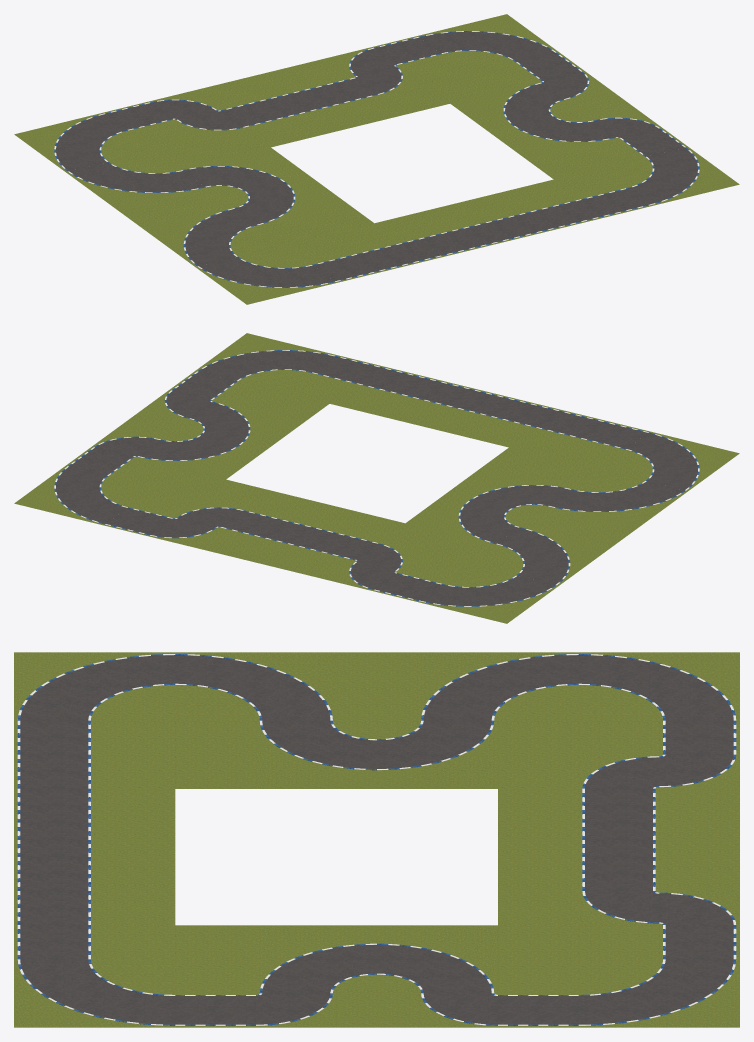
File: track_02.glb
The picture shows the model from 3 angles, top to bottom: view 1: azimuth 30°, elevation 25°; view 2: azimuth 150°, elevation 25°; view 3: azimuth 270°, elevation 25°; orthographic projection. The views are drawn at different scales.
Visible parts, largest first — view 1: Forest_mod04_turn180.004, Forest_mod04_turn180.005, Forest_mod03_turn90_big.009, Forest_mod03_turn90_big.008, Forest_mod03_turn90_big.013, Forest_mod03_turn90_big.011, Forest_mod03_turn90_big.010, Forest_mod03_turn90_big.012, Forest_mod02_turn90_small.015, Forest_mod01_straight.059, Forest_mod01_straight.010, Forest_mod00_empty.090 (+43 smaller); view 2: Forest_mod04_turn180.004, Forest_mod04_turn180.005, Forest_mod03_turn90_big.011, Forest_mod03_turn90_big.010, Forest_mod03_turn90_big.012, Forest_mod03_turn90_big.009, Forest_mod03_turn90_big.008, Forest_mod03_turn90_big.013, Forest_mod01_straight.015, Forest_mod02_turn90_small.015, Forest_mod02_turn90_small.008, Forest_mod00_empty.096 (+43 smaller); view 3: Forest_mod04_turn180.005, Forest_mod04_turn180.004, Forest_mod03_turn90_big.013, Forest_mod03_turn90_big.012, Forest_mod03_turn90_big.011, Forest_mod03_turn90_big.010, Forest_mod03_turn90_big.009, Forest_mod03_turn90_big.008, Forest_mod00_empty.083, Forest_mod00_empty.079, Forest_mod02_turn90_small.016, Forest_mod02_turn90_small.015 (+43 smaller).
Part boxes in pixels (x1,y1,x2,y2): Forest_mod04_turn180.004: (450,82,616,160); Forest_mod04_turn180.005: (181,147,347,225); Forest_mod03_turn90_big.009: (195,245,335,304); Forest_mod03_turn90_big.008: (418,14,558,73); Forest_mod03_turn90_big.013: (143,207,284,266); Forest_mod03_turn90_big.011: (14,112,154,171); Forest_mod03_turn90_big.010: (599,147,739,206); Forest_mod03_turn90_big.012: (66,150,206,209); Forest_mod02_turn90_small.015: (174,109,244,139); Forest_mod01_straight.059: (219,98,289,128); Forest_mod01_straight.010: (356,242,425,271); Forest_mod00_empty.090: (259,215,329,244); Forest_mod04_turn180.004: (137,401,303,479); Forest_mod04_turn180.005: (406,466,572,544); Forest_mod03_turn90_big.011: (418,564,558,623); Forest_mod03_turn90_big.010: (195,333,335,392); Forest_mod03_turn90_big.012: (469,526,610,585); Forest_mod03_turn90_big.009: (599,431,739,490); Forest_mod03_turn90_big.008: (14,466,154,525); Forest_mod03_turn90_big.013: (547,469,687,528); Forest_mod01_straight.015: (445,388,515,417); Forest_mod02_turn90_small.015: (354,542,423,571); Forest_mod02_turn90_small.008: (328,561,397,590); Forest_mod00_empty.096: (424,534,494,563); Forest_mod04_turn180.005: (256,720,497,788); Forest_mod04_turn180.004: (256,925,497,993); Forest_mod03_turn90_big.013: (175,652,336,720); Forest_mod03_turn90_big.012: (417,652,578,720); Forest_mod03_turn90_big.011: (578,652,739,720); Forest_mod03_turn90_big.010: (14,959,175,1027); Forest_mod03_turn90_big.009: (14,652,175,720); Forest_mod03_turn90_big.008: (578,959,739,1027); Forest_mod00_empty.083: (336,652,417,686); Forest_mod00_empty.079: (336,993,417,1027); Forest_mod02_turn90_small.016: (578,891,659,925); Forest_mod02_turn90_small.015: (578,754,659,788).
Bounding box in the file's own units: 176 × 0.03 × 144.
Materials: 3 (3 with a texture image).
